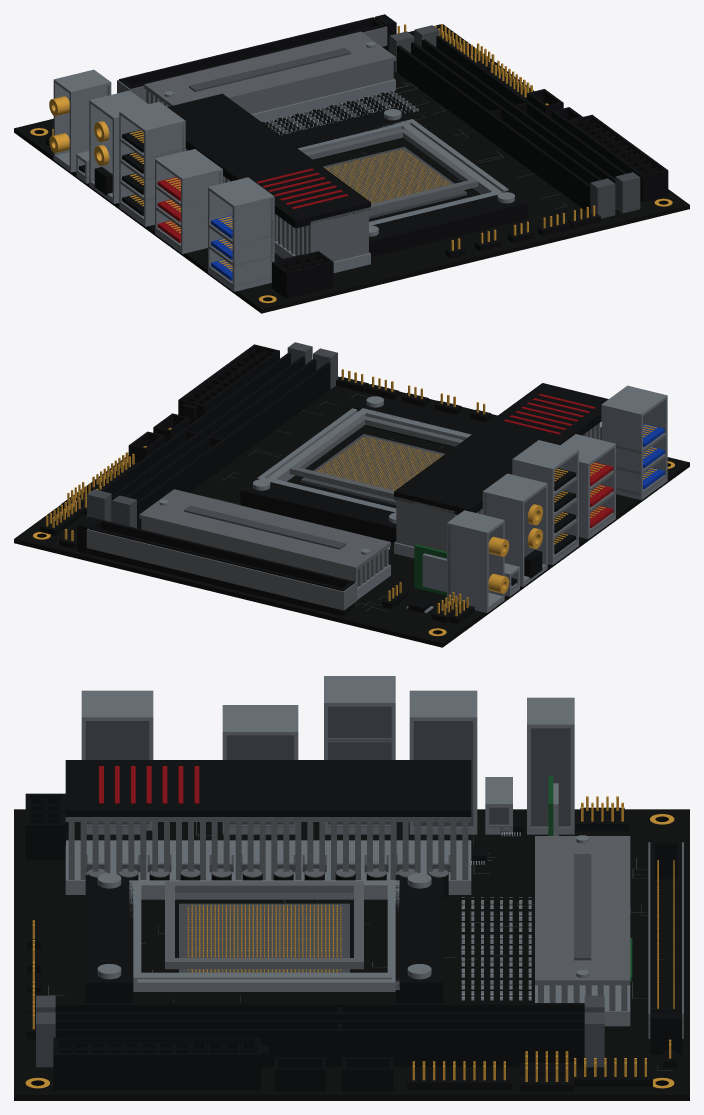
Rendered from L32_ASSEMBLED.fbx.
The picture shows the model from 3 angles, top to bottom: view 1: azimuth 30°, elevation 25°; view 2: azimuth 150°, elevation 25°; view 3: azimuth 270°, elevation 25°; orthographic projection. The views are drawn at different scales.
Visible parts, largest first — view 1: PCB_PCB, VRM_ARMOR_Black, M2_1_HEATSINK_Silver, DDR5_A1_Black, LAN_USB_C_Steel, AM5_BRACKET_-1_Black, DDR5_B1_Black, CPU_AM5_Gray, HDMI_USB_A_Steel, USB_1234_Steel, VRM_LEFT_HEATSINK_Silver, PCIE1_Black (+25 smaller); view 2: PCB_PCB, VRM_ARMOR_Black, M2_1_HEATSINK_Silver, DDR5_A1_Black, PCIE1_Black, PCIE1_Silver, LAN_USB_C_Steel, DDR5_B1_Black, ANTENNA_Steel, AM5_BRACKET_1_Black, CPU_AM5_Gray, AUDIO_Steel (+28 smaller); view 3: PCB_PCB, VRM_ARMOR_Black, DDR5_B1_Black, VRM_LEFT_HEATSINK_Silver, M2_1_HEATSINK_Silver, ATXPWR1_Black, CPU_AM5_Steel, DDR5_A1_Black, CPU_AM5_Gray, VRM_LEFT_HEATSINK_Steel, CPU_AM5_Silver, AM5_BRACKET_-1_Black (+30 smaller).
Boxes of the visible parts, box(x1,y1,x2,y2) form: PCB_PCB: box(14, 24, 689, 313); VRM_ARMOR_Black: box(167, 93, 370, 228); M2_1_HEATSINK_Silver: box(144, 31, 395, 114); DDR5_A1_Black: box(397, 42, 601, 213); LAN_USB_C_Steel: box(208, 177, 274, 291); AM5_BRACKET_-1_Black: box(369, 190, 527, 256); DDR5_B1_Black: box(422, 36, 626, 183); CPU_AM5_Gray: box(323, 146, 466, 218); HDMI_USB_A_Steel: box(155, 149, 222, 253); USB_1234_Steel: box(119, 101, 185, 226); VRM_LEFT_HEATSINK_Silver: box(185, 148, 370, 261); PCIE1_Black: box(119, 14, 396, 88); PCB_PCB: box(14, 376, 689, 647); VRM_ARMOR_Black: box(394, 383, 608, 514); M2_1_HEATSINK_Silver: box(139, 489, 390, 588); DDR5_A1_Black: box(125, 359, 330, 528); PCIE1_Black: box(77, 516, 354, 616); PCIE1_Silver: box(86, 528, 356, 610); LAN_USB_C_Steel: box(601, 385, 667, 500); DDR5_B1_Black: box(100, 353, 304, 521); ANTENNA_Steel: box(447, 510, 504, 612); AM5_BRACKET_1_Black: box(240, 478, 396, 543); CPU_AM5_Gray: box(301, 434, 445, 505); AUDIO_Steel: box(482, 473, 547, 586); PCB_PCB: box(14, 809, 689, 1100); VRM_ARMOR_Black: box(65, 760, 471, 820); DDR5_B1_Black: box(55, 1019, 584, 1067); VRM_LEFT_HEATSINK_Silver: box(65, 817, 471, 879); M2_1_HEATSINK_Silver: box(535, 836, 630, 1010); ATXPWR1_Black: box(53, 1037, 268, 1090); CPU_AM5_Steel: box(129, 880, 399, 991); DDR5_A1_Black: box(55, 1003, 584, 1019); CPU_AM5_Gray: box(179, 903, 349, 972); VRM_LEFT_HEATSINK_Steel: box(65, 840, 471, 894); CPU_AM5_Silver: box(165, 881, 363, 969); AM5_BRACKET_-1_Black: box(85, 875, 133, 1002).
Bounding box in the file's own units: 17.45 × 4.21 × 17.
